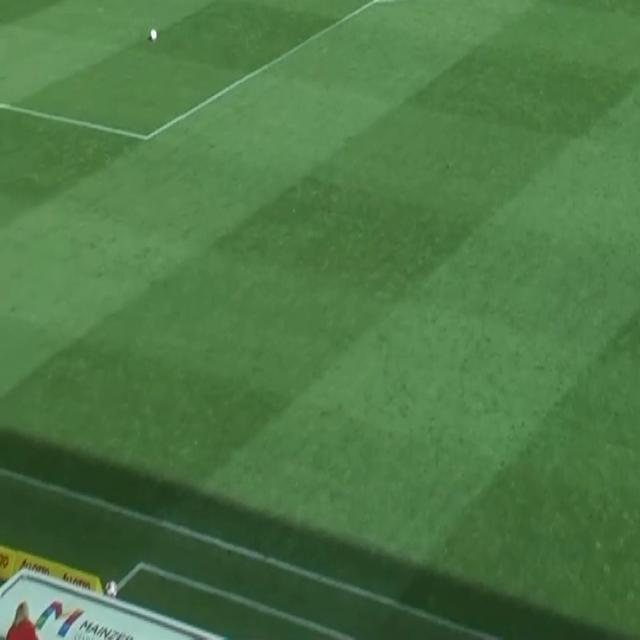ball: (150, 28, 156, 42)
